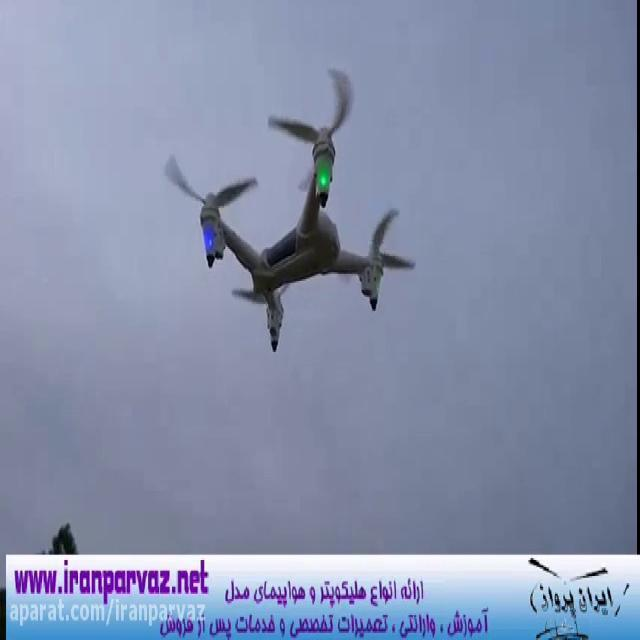drone: (160, 60, 418, 354)
